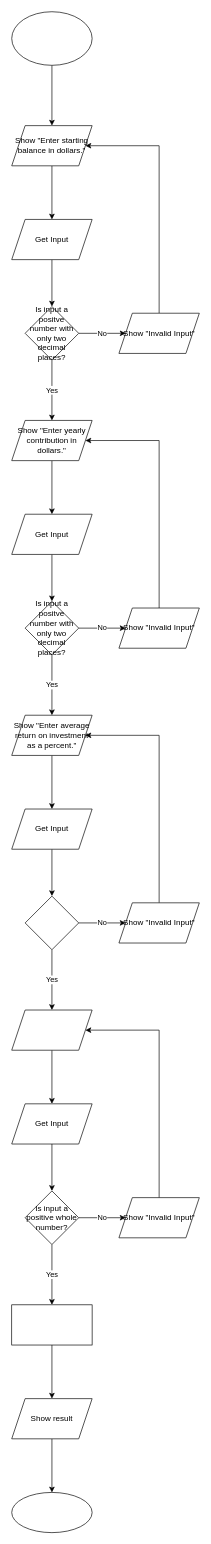
Image size: 211x1544. Some labels were removed from this diagram. The box of each missing label's shape, as (x1, y1, x2, y2) in pixels:
End: (11, 1492, 92, 1533)
Is input a positive number?: (24, 895, 79, 950)
Process all numbers put in to get result: (11, 1304, 92, 1345)
Show "Enter number of years for report.": (11, 1009, 92, 1050)
Start: (11, 11, 92, 65)
